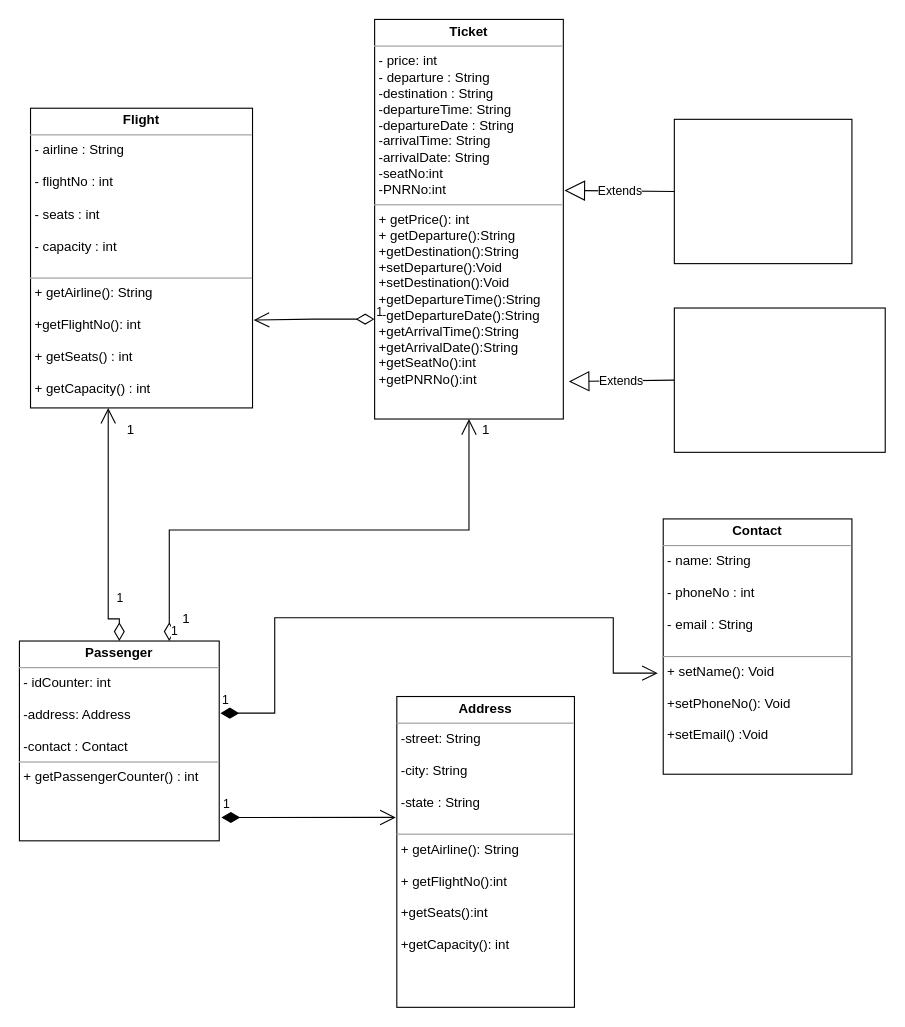
The diagram is 905 pixels wide and 1027 high, and some of its shapes have lost their labels. The shapes that lost their labels are listed below. From the top down, each one's centre as x and y in pixels, then its label:
At point 762,191: "TouristTicket - hotelAddress: String - places : String + method(): Type".
At point 779,379: "RegularTicket - services : String + getServices(): String + setServices(): Void".
